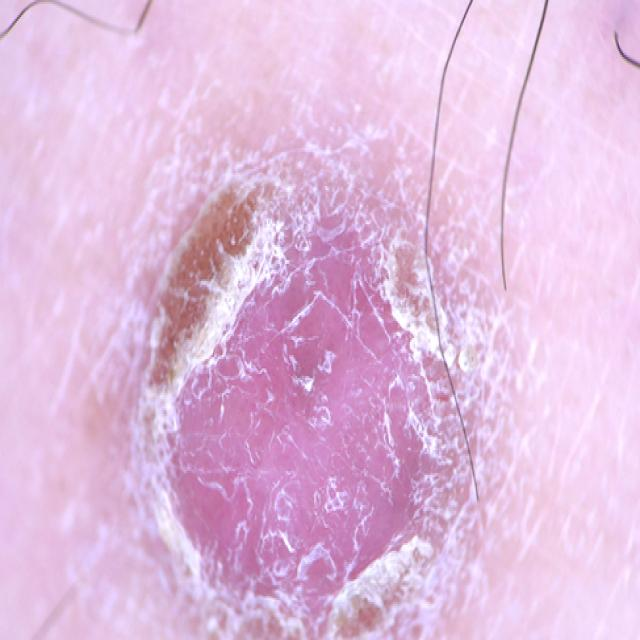Dermatofibroma: (97, 123, 518, 640)
